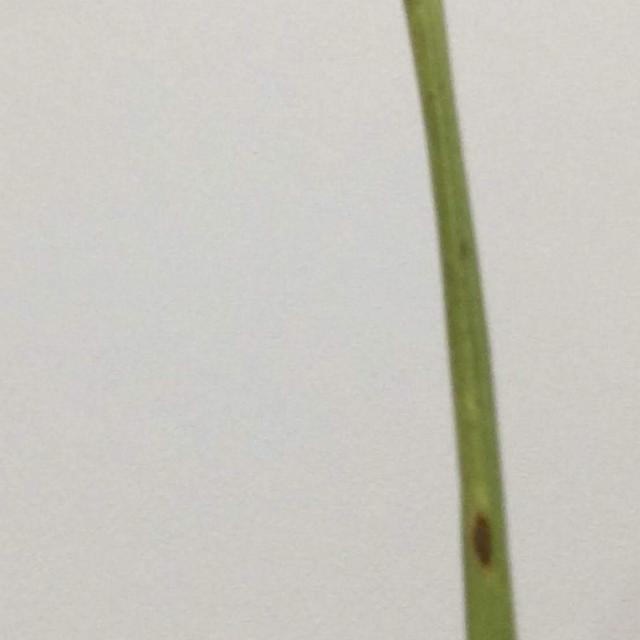Leaf_Blast: (454, 449, 531, 623)
